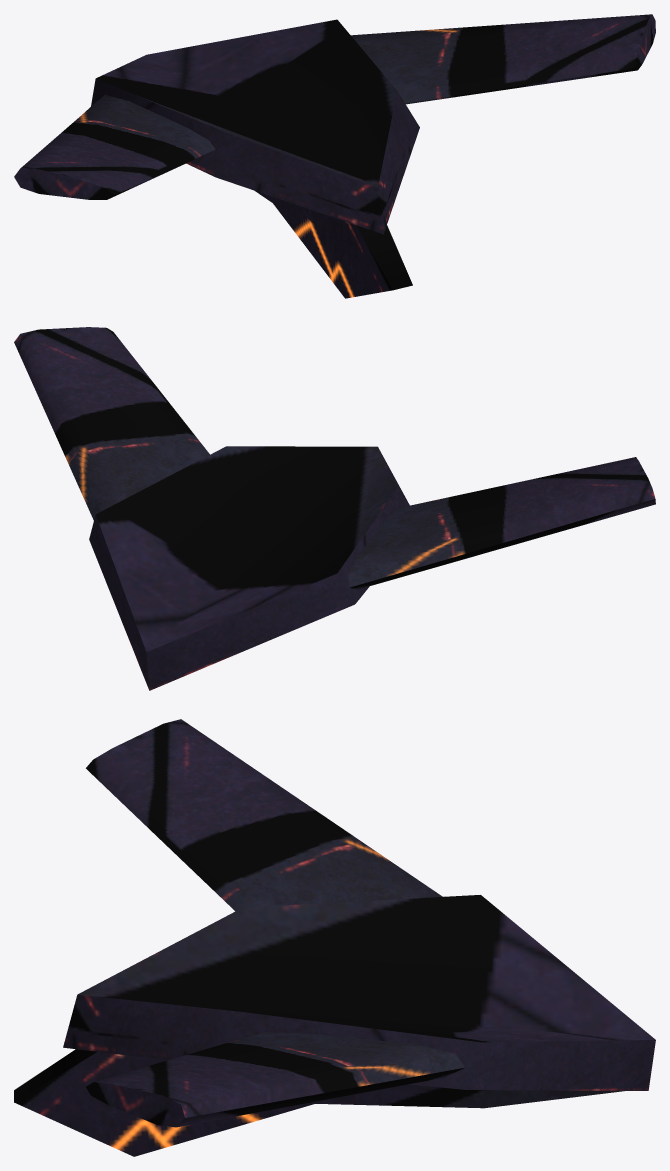
The model's file is ship16a.fbx.
3 renders of one model, top to bottom at view 1: azimuth 30°, elevation 25°; view 2: azimuth 150°, elevation 25°; view 3: azimuth 270°, elevation 25°, orthographic. The views are drawn at different scales.
Parts seen in each view (by area): view 1: PipelineFBX; view 2: PipelineFBX; view 3: PipelineFBX.
Part boxes in pixels (x1=…): PipelineFBX: x1=14, y1=14, x2=655, y2=298; PipelineFBX: x1=14, y1=327, x2=655, y2=690; PipelineFBX: x1=14, y1=719, x2=655, y2=1156.
Size of the model in its own units: 116 by 33.4 by 80.57.
Materials: 1 (1 with a texture image).
